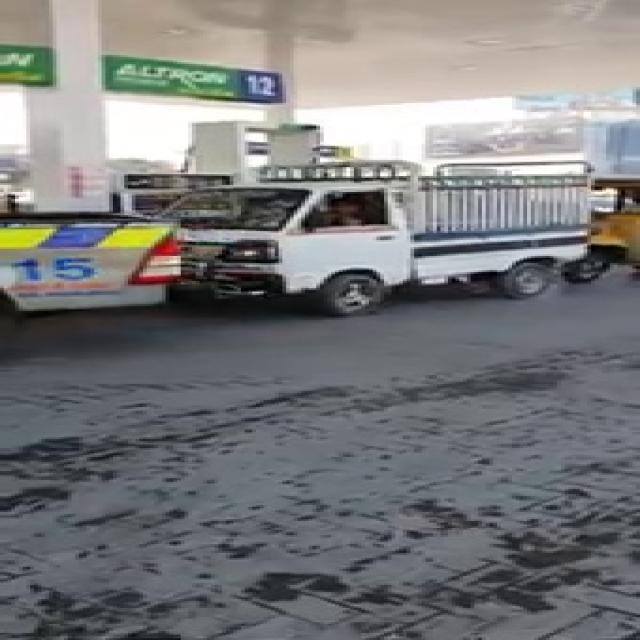police: (0, 192, 221, 348)
